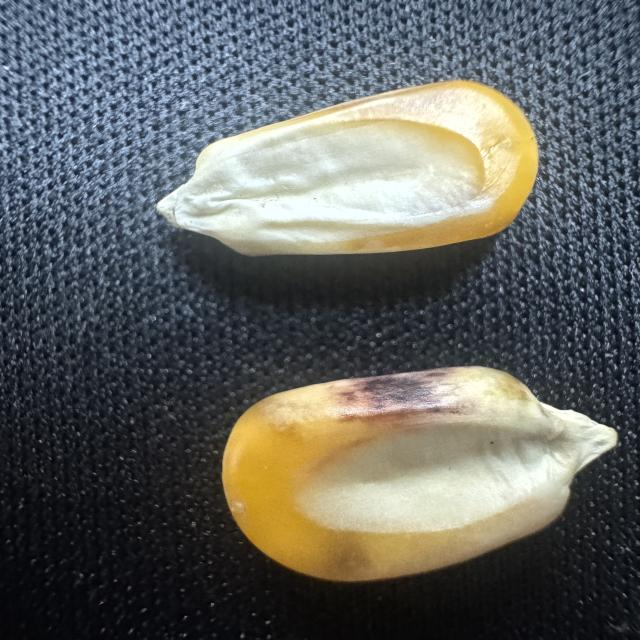Bad-Seed: (210, 351, 622, 582)
Good-Seed: (148, 77, 544, 266)
